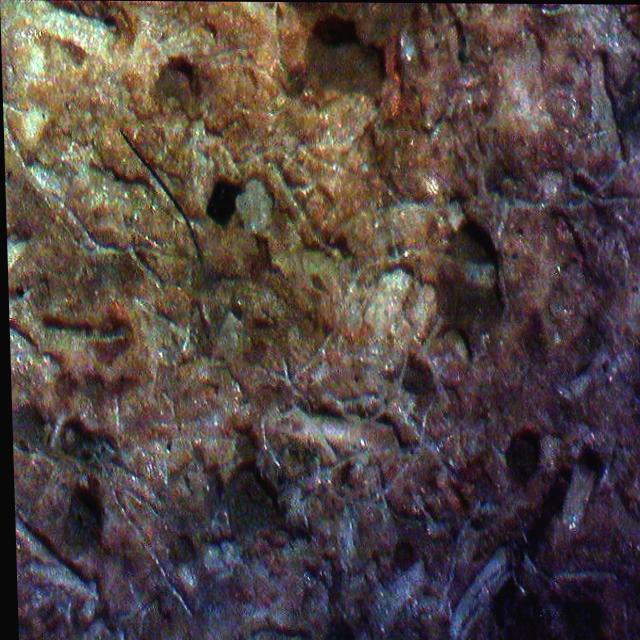microplastic: (114, 127, 190, 222)
